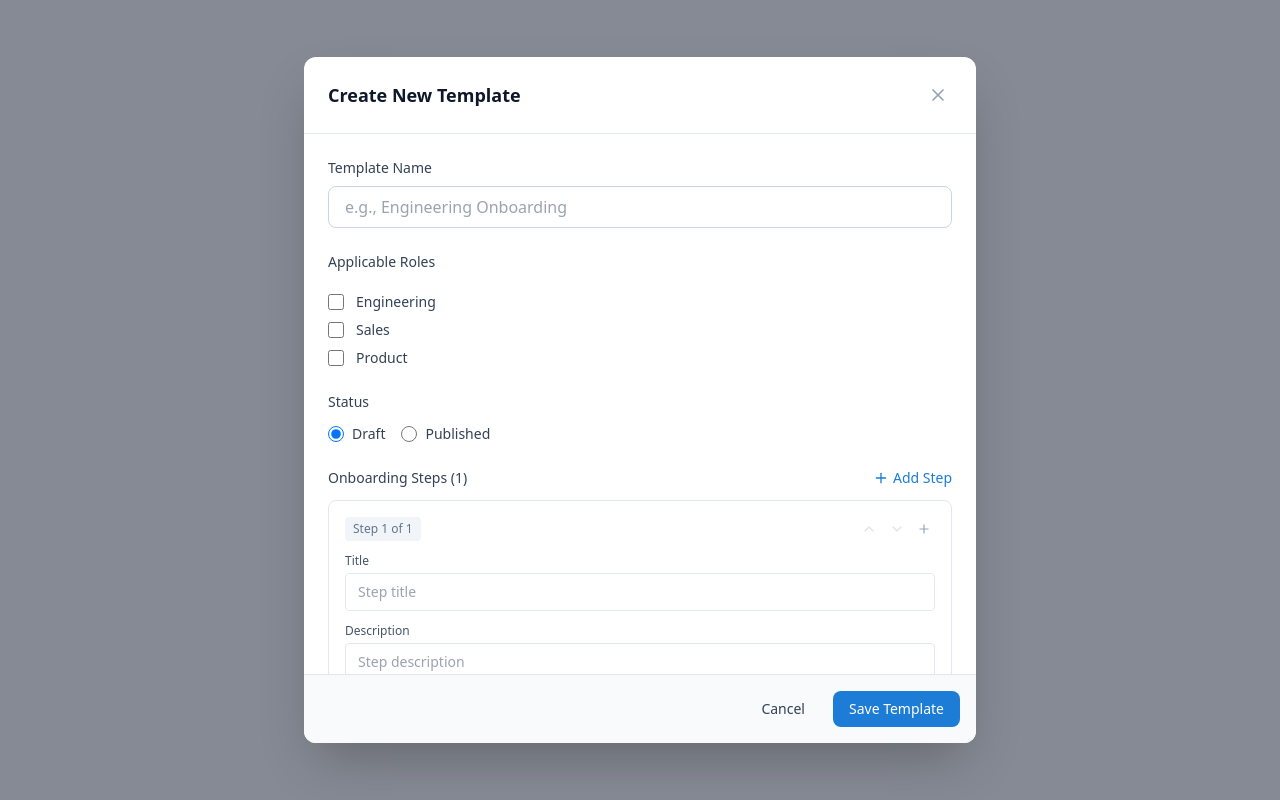
TemplateModal › TemplateModal - step insertion › should update step count label after insertion
This screenshot has width=1280, height=800.
Expected: the text "Onboarding Steps (1)" is shown, [328,468,467,488]
Click the button named "Insert new step after step 1". click: (924,529)
box: [913,518,935,540]
(page scrolled)
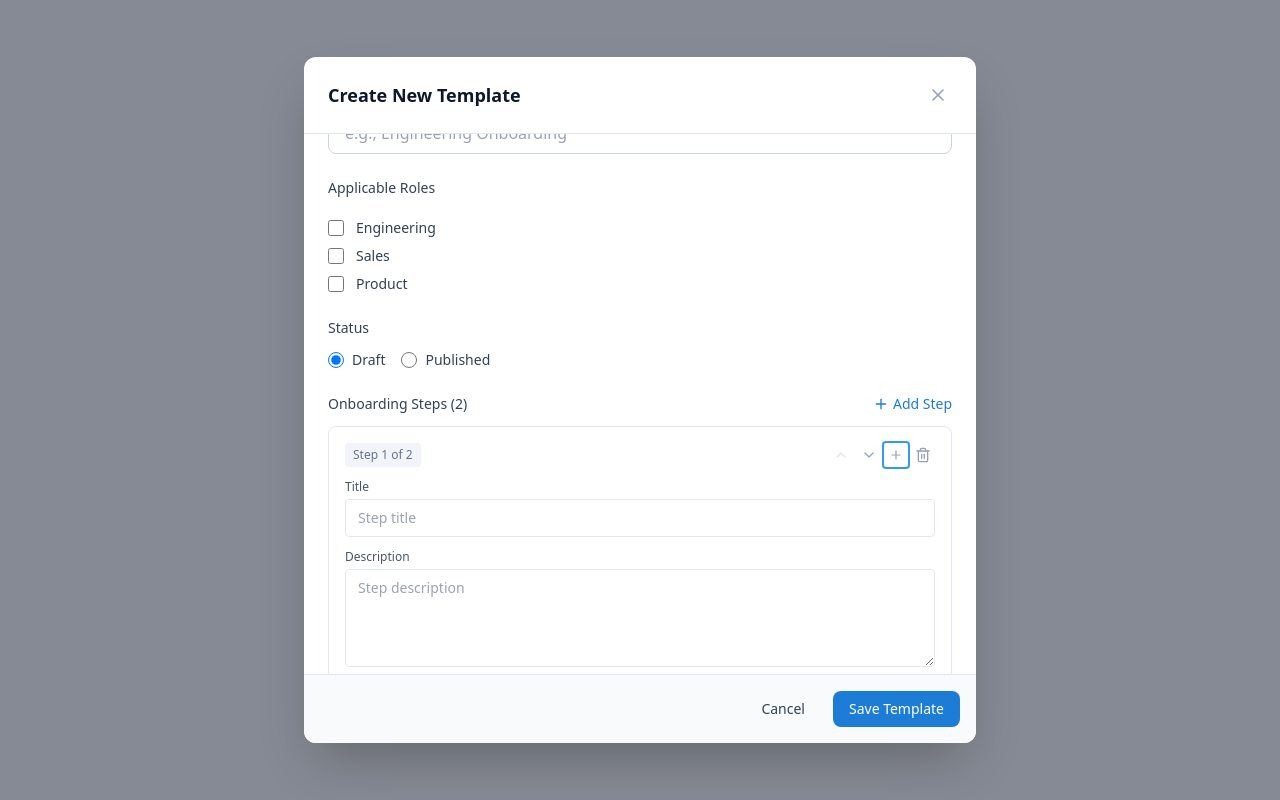
Now the text "Onboarding Steps (2)" is shown, box [328,394,467,414]
